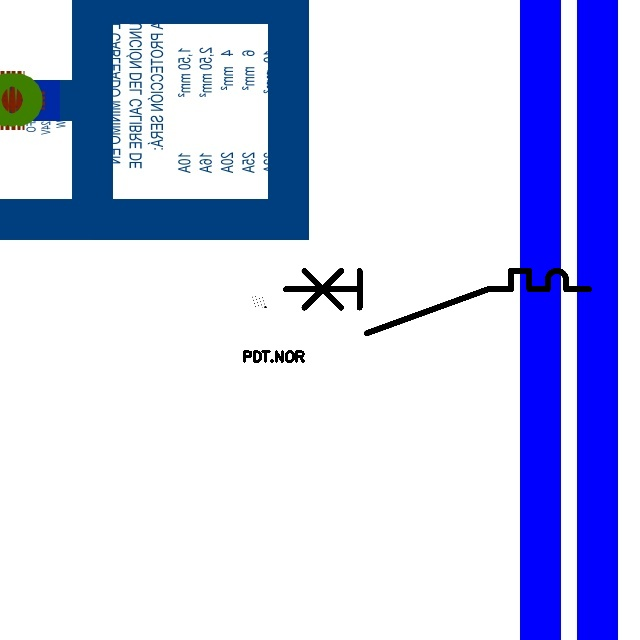interruptor_termomagnetico: (278, 263, 597, 341)
